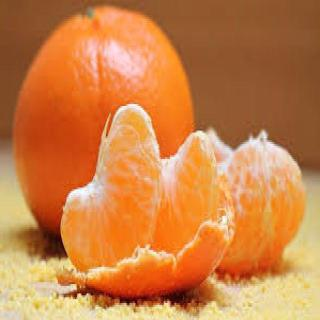orange: (5, 0, 197, 247), (54, 96, 166, 290), (126, 124, 222, 294)
